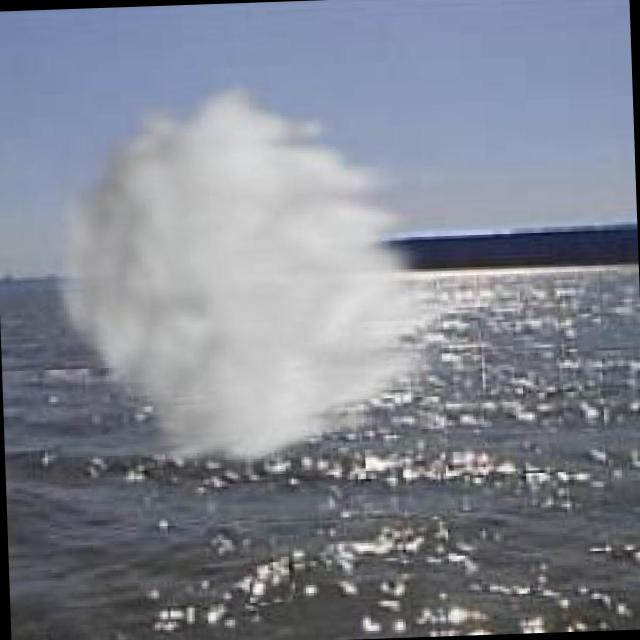Smoke: (40, 68, 477, 475)
